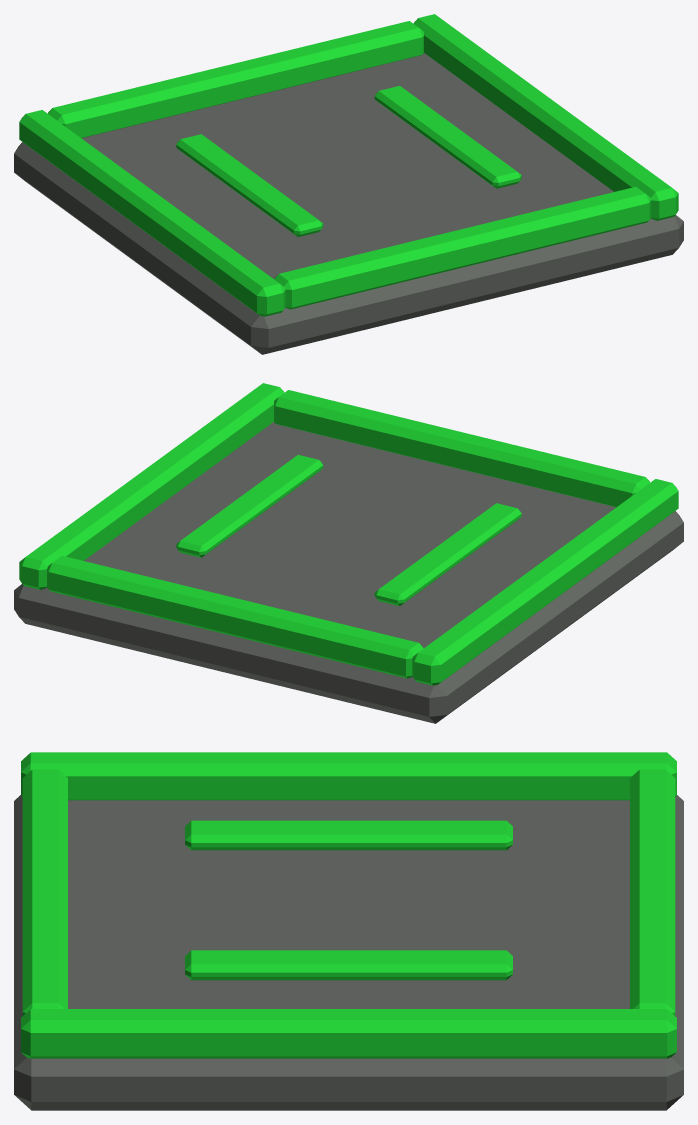
The model's file is terrain-toggle-open.glb.
The picture shows the model from 3 angles, top to bottom: view 1: azimuth 30°, elevation 25°; view 2: azimuth 150°, elevation 25°; view 3: azimuth 270°, elevation 25°; orthographic projection. The views are drawn at different scales.
Parts seen in each view (by area): view 1: terrain-toggle-open; view 2: terrain-toggle-open; view 3: terrain-toggle-open.
Boxes of the visible parts, x1,y1,x2,y2 form: terrain-toggle-open: (14,14,683,354); terrain-toggle-open: (14,383,683,723); terrain-toggle-open: (14,752,683,1110).
Bounding box in the file's own units: 0.96 × 0.1425 × 0.96.
